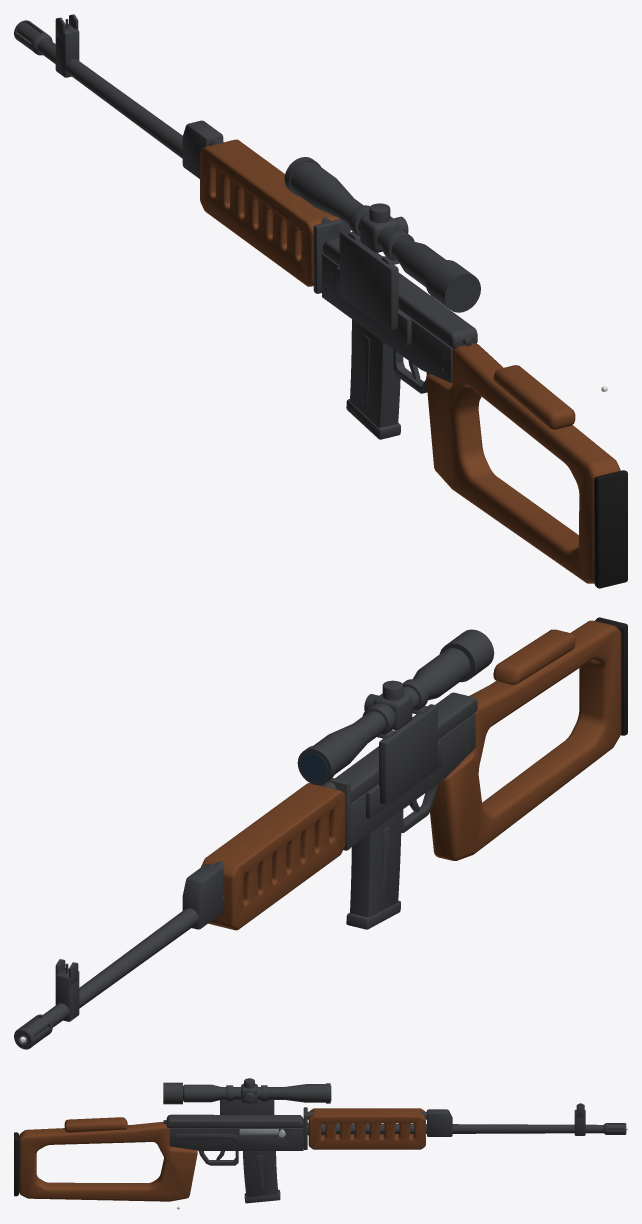
The model's file is Dragunov.glb.
3 renders of one model, top to bottom at view 1: azimuth 30°, elevation 25°; view 2: azimuth 150°, elevation 25°; view 3: azimuth 270°, elevation 25°, orthographic. The views are drawn at different scales.
Visible parts, largest first — view 1: Stock, Scope, Handguard, Magazine, ButtPlate, Fittings, Barrel, Receiver, DustCover; view 2: Stock, Scope, Handguard, Magazine, Fittings, Barrel, Receiver, DustCover, ButtPlate, TriggerGuard, ScopeLens; view 3: Stock, Handguard, Scope, Receiver, Barrel, DustCover, Magazine, Fittings, Selector, ButtPlate, Bolt, TriggerGuard.
Boxes of the visible parts, bbox=[...] form: Stock: bbox=[426, 343, 620, 583]; Scope: bbox=[284, 157, 480, 344]; Handguard: bbox=[200, 139, 339, 286]; Magazine: bbox=[346, 319, 400, 439]; ButtPlate: bbox=[594, 470, 627, 588]; Fittings: bbox=[55, 14, 350, 293]; Barrel: bbox=[14, 20, 182, 158]; Receiver: bbox=[322, 254, 452, 382]; DustCover: bbox=[322, 238, 477, 348]; Stock: bbox=[430, 620, 621, 860]; Scope: bbox=[297, 629, 494, 818]; Handguard: bbox=[201, 783, 345, 930]; Magazine: bbox=[346, 810, 401, 929]; Fittings: bbox=[55, 778, 350, 1021]; Barrel: bbox=[14, 895, 224, 1049]; Receiver: bbox=[344, 713, 475, 850]; DustCover: bbox=[335, 692, 477, 802]; ButtPlate: bbox=[595, 617, 627, 735]; TriggerGuard: bbox=[401, 784, 438, 832]; ScopeLens: bbox=[301, 753, 327, 781]; Stock: bbox=[19, 1117, 197, 1201]; Handguard: bbox=[308, 1108, 425, 1149]; Scope: bbox=[163, 1078, 330, 1114]; Receiver: bbox=[169, 1127, 303, 1150]; Barrel: bbox=[307, 1122, 626, 1135]; DustCover: bbox=[163, 1114, 303, 1127]; Magazine: bbox=[243, 1151, 280, 1203]; Fittings: bbox=[303, 1103, 585, 1149]; Selector: bbox=[175, 1134, 238, 1142]; ButtPlate: bbox=[14, 1132, 18, 1196]; Bolt: bbox=[239, 1129, 285, 1137]; TriggerGuard: bbox=[198, 1150, 238, 1165].
Size of the model in its own units: 1.18 by 1.46 by 6.85.
